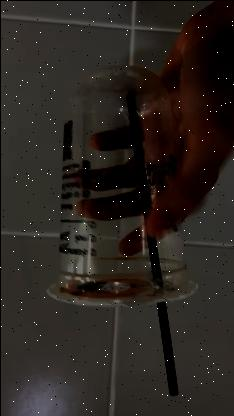Others: (45, 65, 198, 305)
